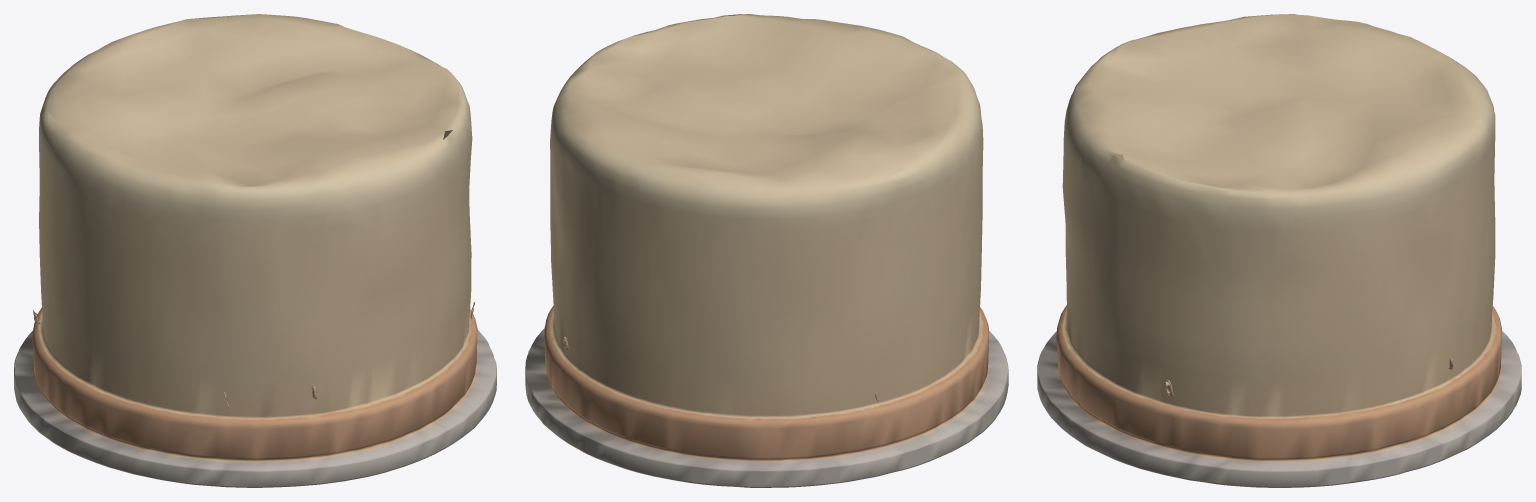
File: cake-v1.glb
3 views of the same model, side by side, from view 1: azimuth 30°, elevation 25°; view 2: azimuth 150°, elevation 25°; view 3: azimuth 270°, elevation 25° (orthographic).
Visible parts, largest first — view 1: tripo_node_e4f324ba-0e45-45fe-ad58-7af65aad38d0; view 2: tripo_node_e4f324ba-0e45-45fe-ad58-7af65aad38d0; view 3: tripo_node_e4f324ba-0e45-45fe-ad58-7af65aad38d0.
Boxes of the visible parts, <box> form: tripo_node_e4f324ba-0e45-45fe-ad58-7af65aad38d0: <box>14,14,496,487</box>; tripo_node_e4f324ba-0e45-45fe-ad58-7af65aad38d0: <box>525,14,1008,487</box>; tripo_node_e4f324ba-0e45-45fe-ad58-7af65aad38d0: <box>1037,14,1521,487</box>.
Bounding box in the file's own units: 0.6 × 0.4 × 0.6.
Materials: 1 (1 with a texture image).
